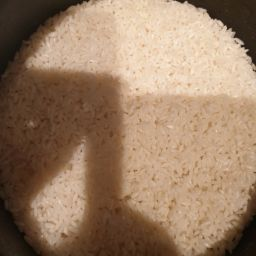Rice: (9, 3, 254, 254), (61, 34, 247, 186), (68, 135, 225, 256), (21, 72, 136, 218)
